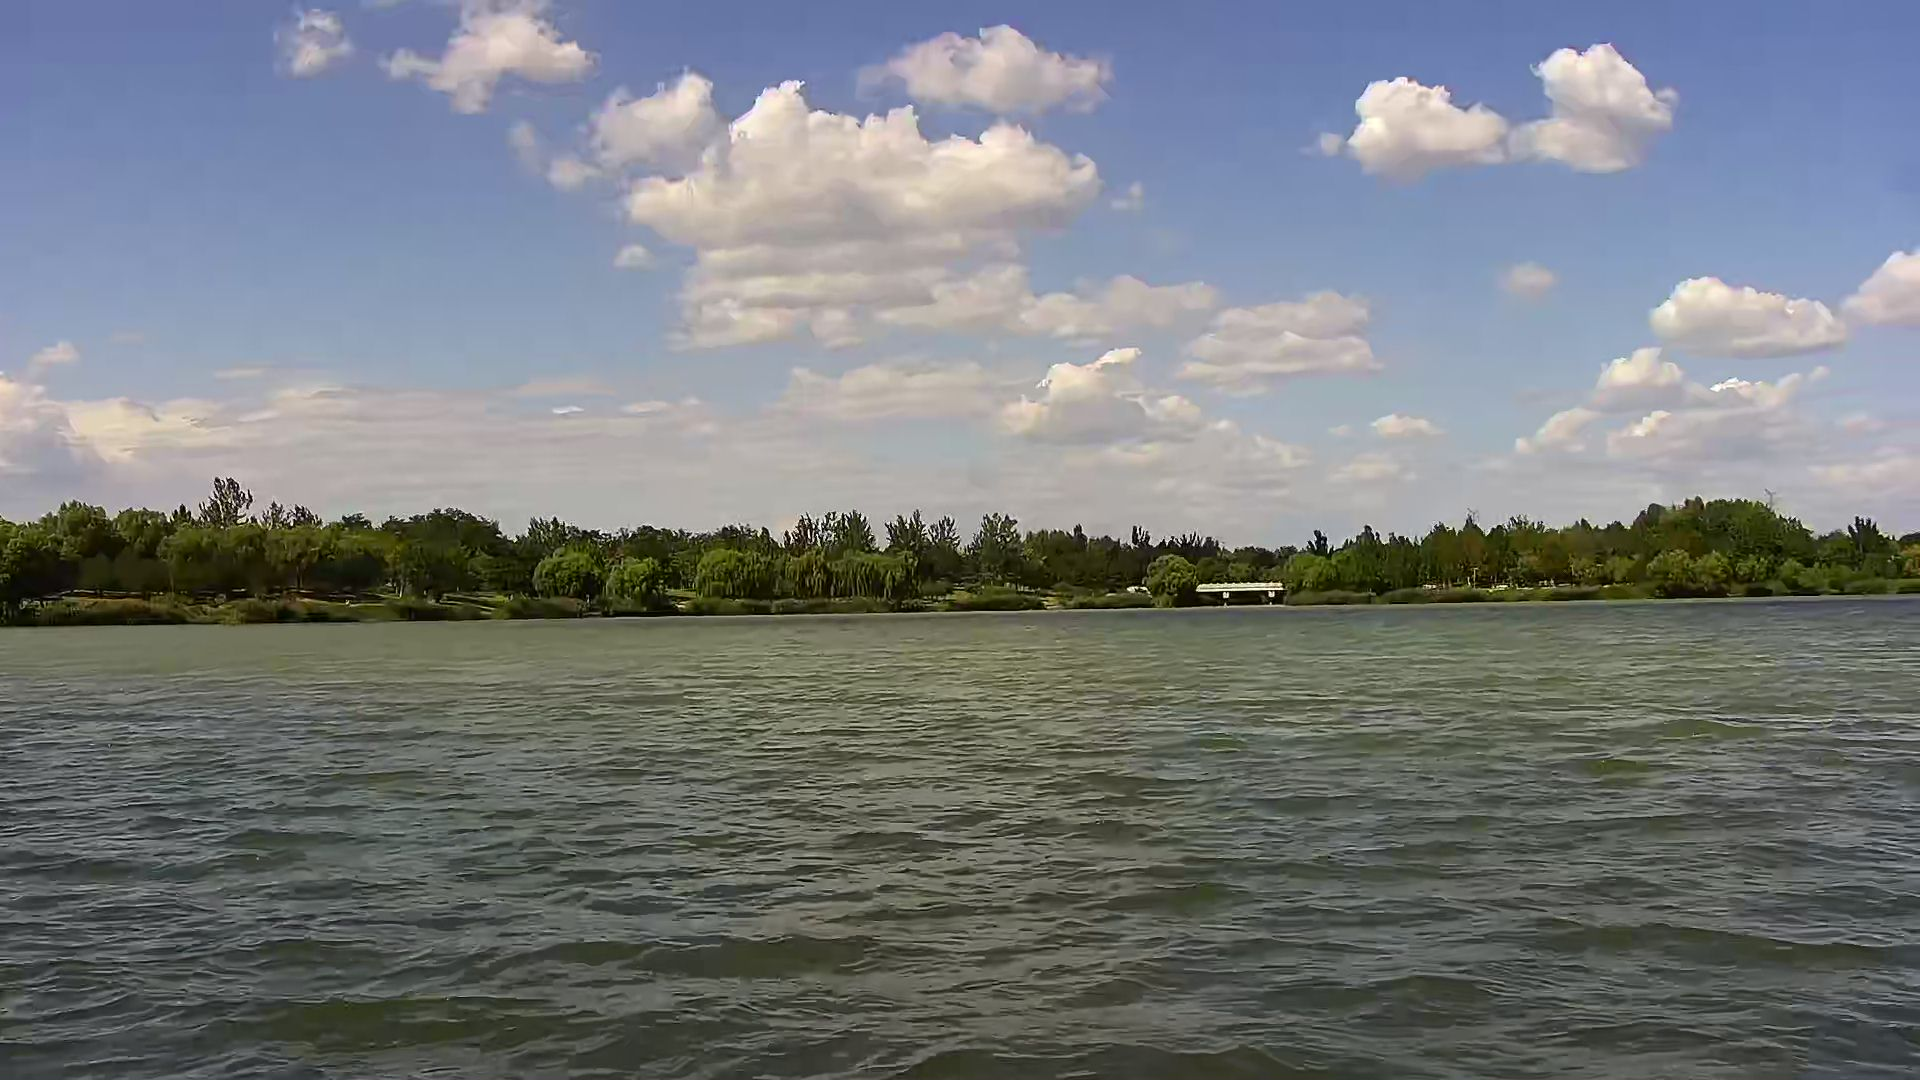bridge: (1195, 574, 1287, 611)
